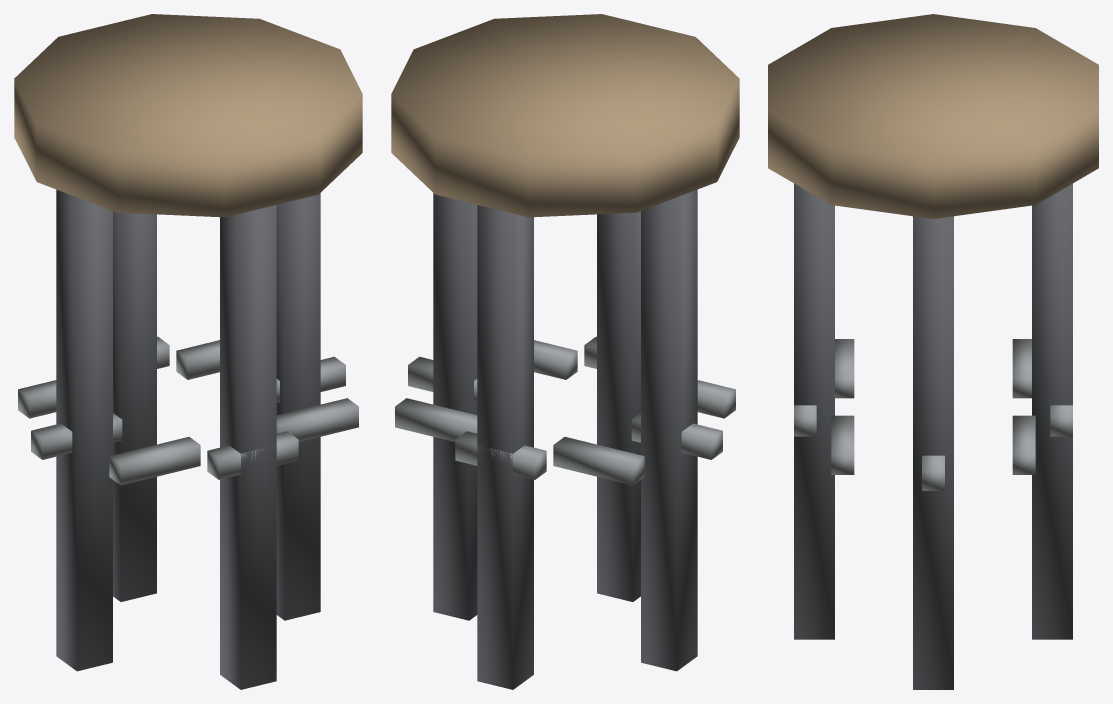
The model's file is counter_stool.glb.
The picture shows the model from 3 angles, left to right: view 1: azimuth 30°, elevation 25°; view 2: azimuth 150°, elevation 25°; view 3: azimuth 270°, elevation 25°; orthographic projection.
Parts seen in each view (by area): view 1: world; view 2: world; view 3: world.
Part boxes in pixels (x1,y1,x2,y2): world: [14, 14, 362, 689]; world: [391, 14, 739, 689]; world: [768, 14, 1098, 689].
Bounding box in the file's own units: 0.38 × 0.655 × 0.3614.
